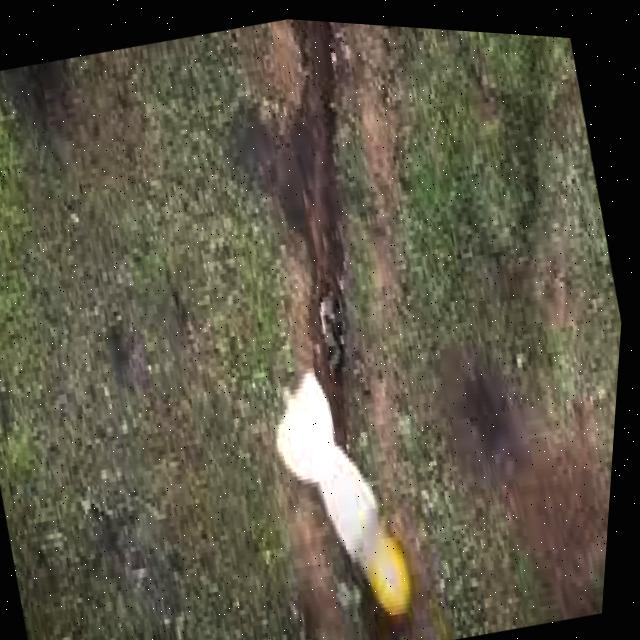grenade: (237, 333, 451, 640)
